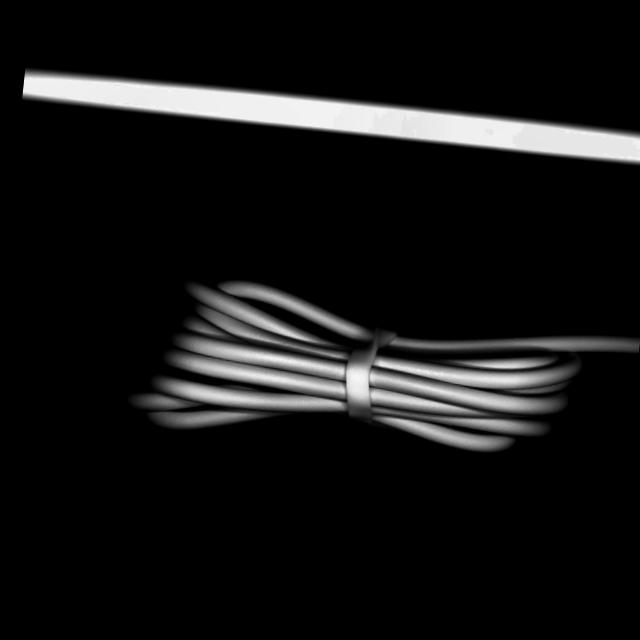Cable: (117, 260, 640, 482)
